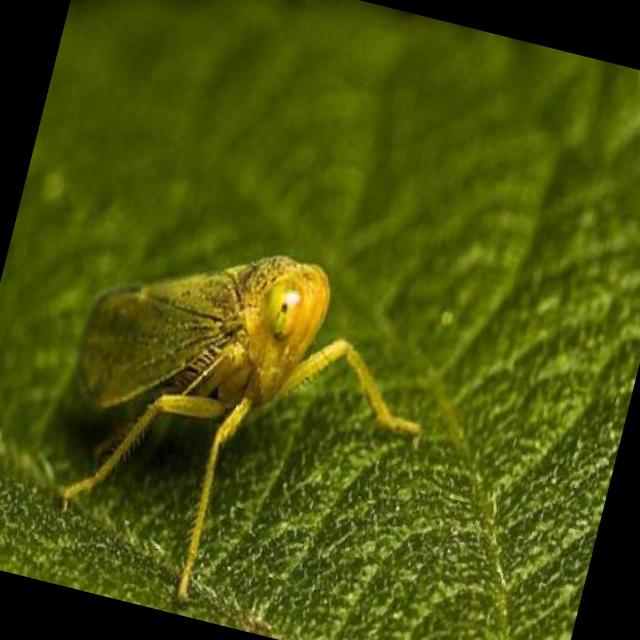green-leafhopper: (32, 211, 450, 637)
